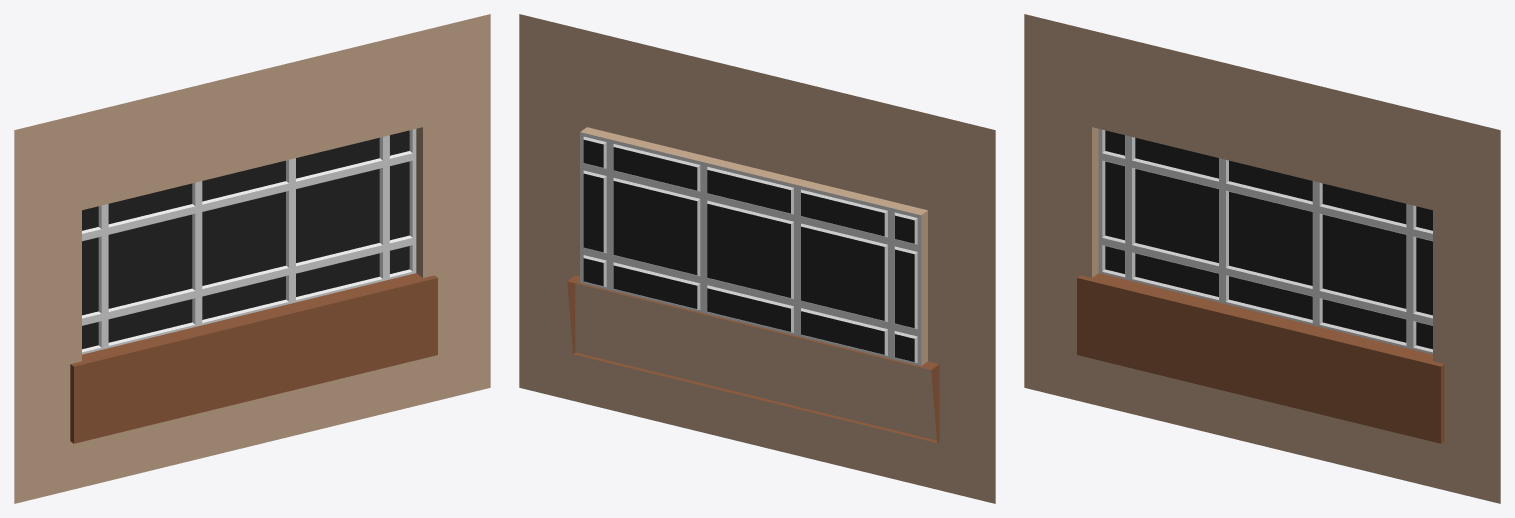
The model's file is 4x3WindowC.fbx.
3 renders of one model, left to right at view 1: azimuth 30°, elevation 25°; view 2: azimuth 150°, elevation 25°; view 3: azimuth 330°, elevation 25°, orthographic.
Parts seen in each view (by area): view 1: 4x3WindowC; view 2: 4x3WindowC; view 3: 4x3WindowC.
Boxes of the visible parts, x1,y1,x2,y2 form: 4x3WindowC: (14,14,490,503); 4x3WindowC: (519,14,995,503); 4x3WindowC: (1024,14,1500,503).
Size of the model in its own units: 400 by 300 by 17.14.
